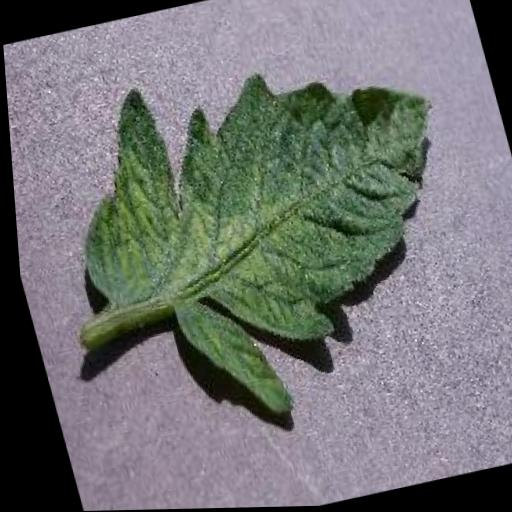Mosaic Virus: (32, 25, 499, 448)
